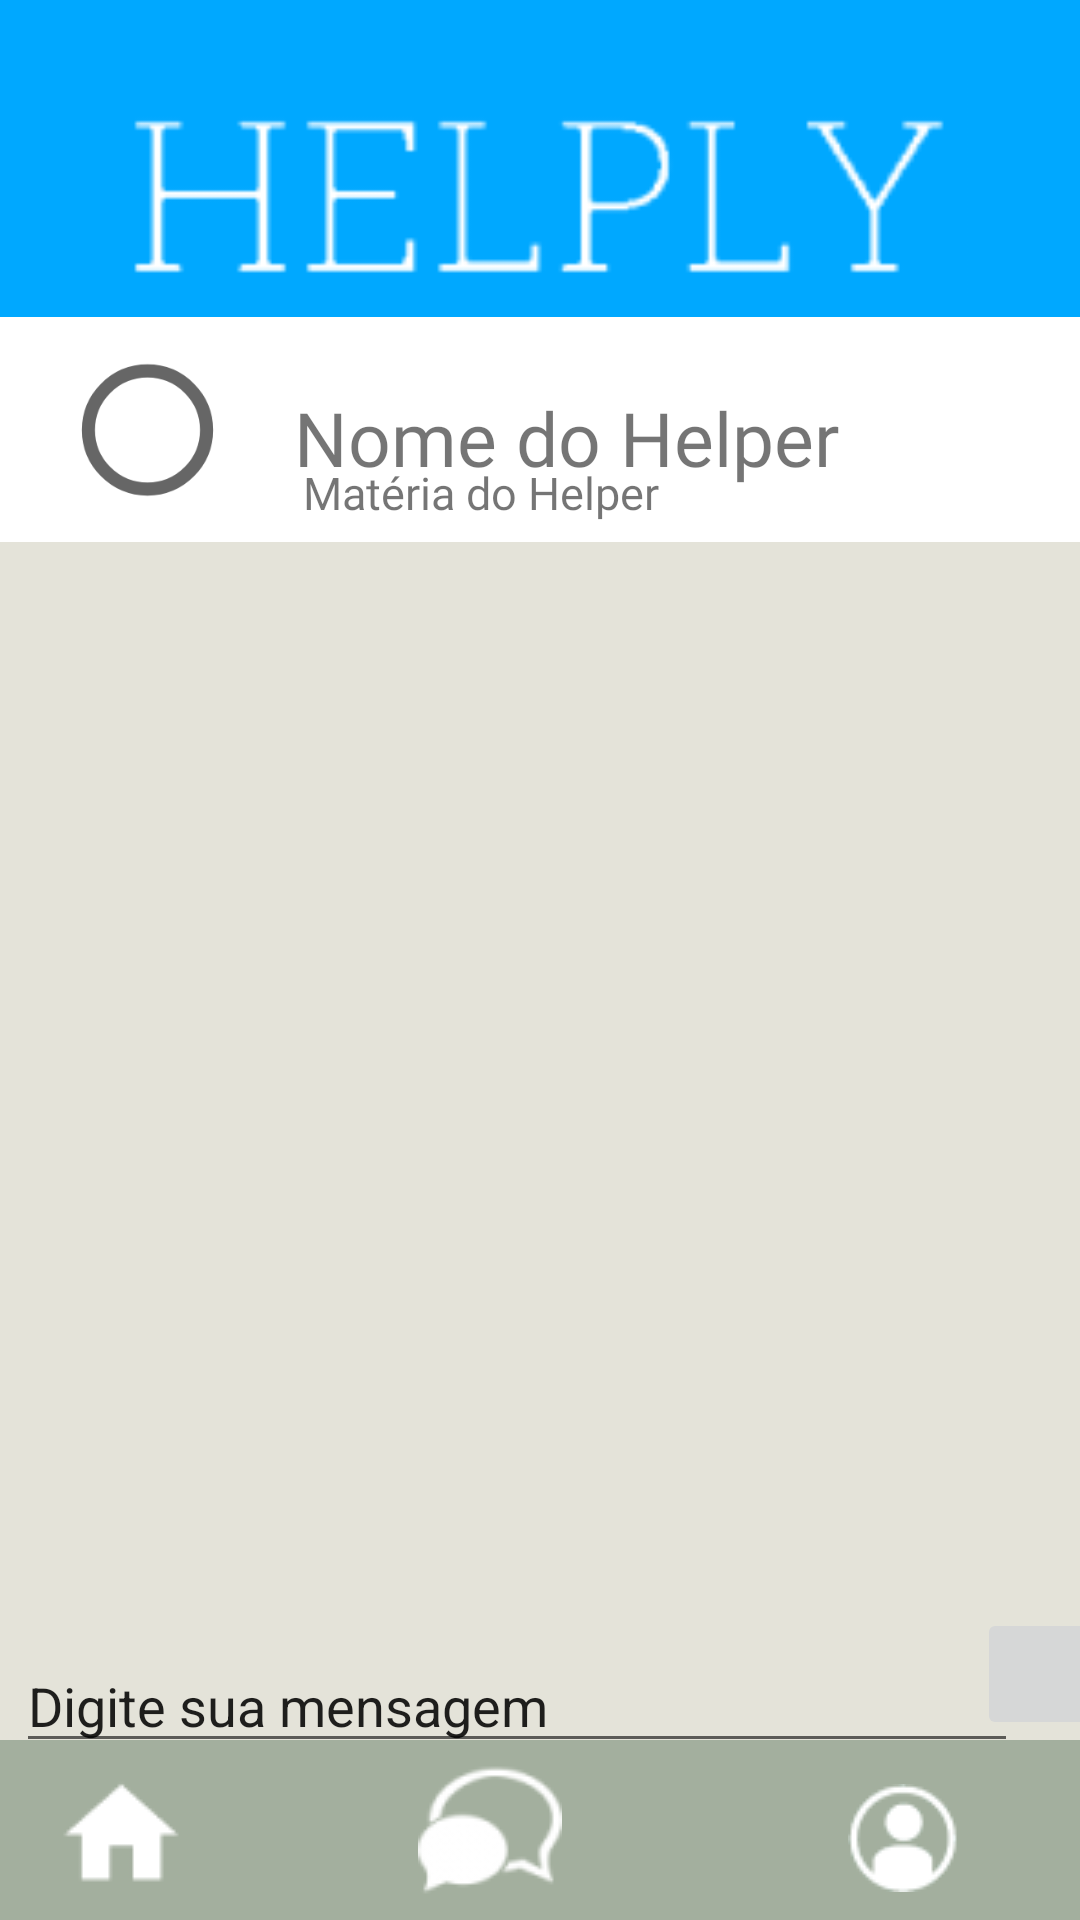

Where to tap for icons on this 1080x1920 app screen, as (x=x, y=y):
chat: (x=490, y=1829)
home: (x=121, y=1832)
perfil: (x=902, y=1838)
